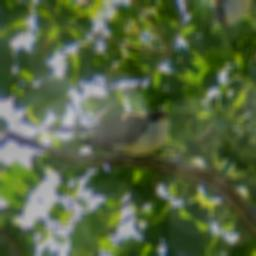Cuckoo: (36, 55, 180, 193)
